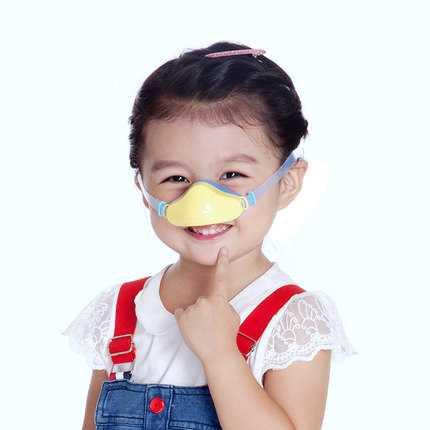WRONG: (145, 133, 274, 270)
